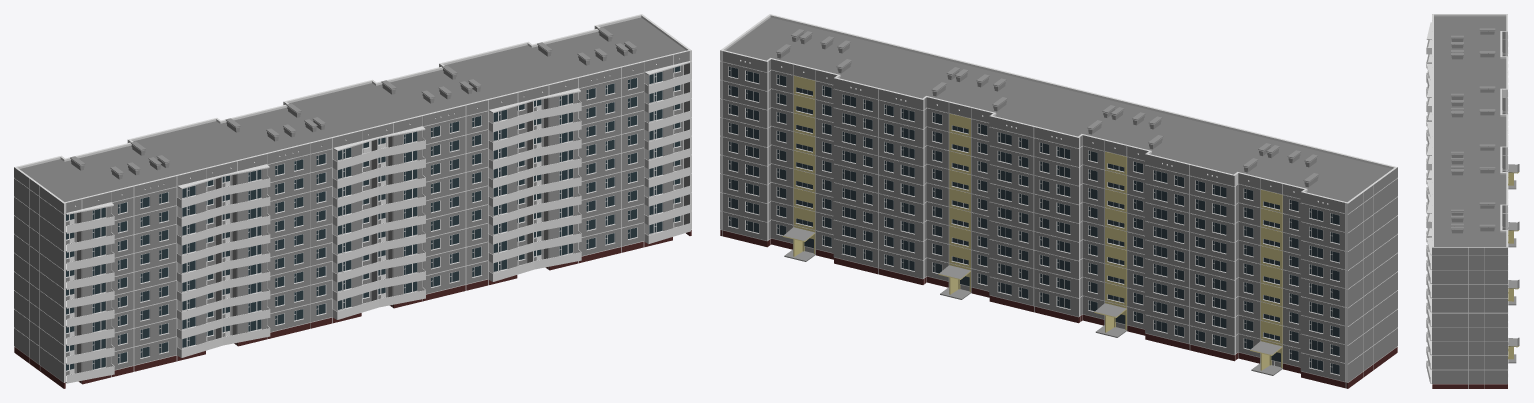
Rendered from Sushe.fbx.
The picture shows the model from 3 angles, left to right: view 1: azimuth 30°, elevation 25°; view 2: azimuth 150°, elevation 25°; view 3: azimuth 270°, elevation 25°; orthographic projection. The views are drawn at different scales.
Parts seen in each view (by area): view 1: House 111-90; view 2: House 111-90; view 3: House 111-90.
Boxes of the visible parts, x1,y1,x2,y2 form: House 111-90: (14,14,691,388); House 111-90: (720,14,1397,388); House 111-90: (1426,14,1519,388).
Bounding box in the file's own units: 94.79 × 27.37 × 15.99.
